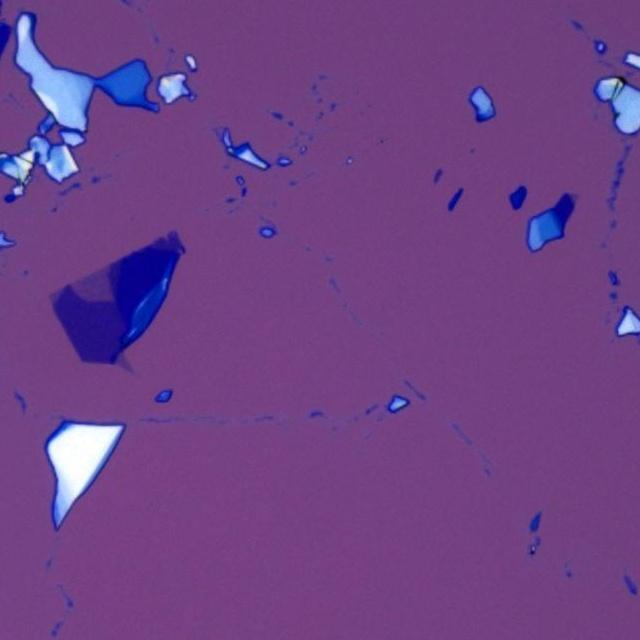monolayer-eWW4: (72, 263, 112, 303), (115, 352, 134, 374), (50, 286, 61, 306)
